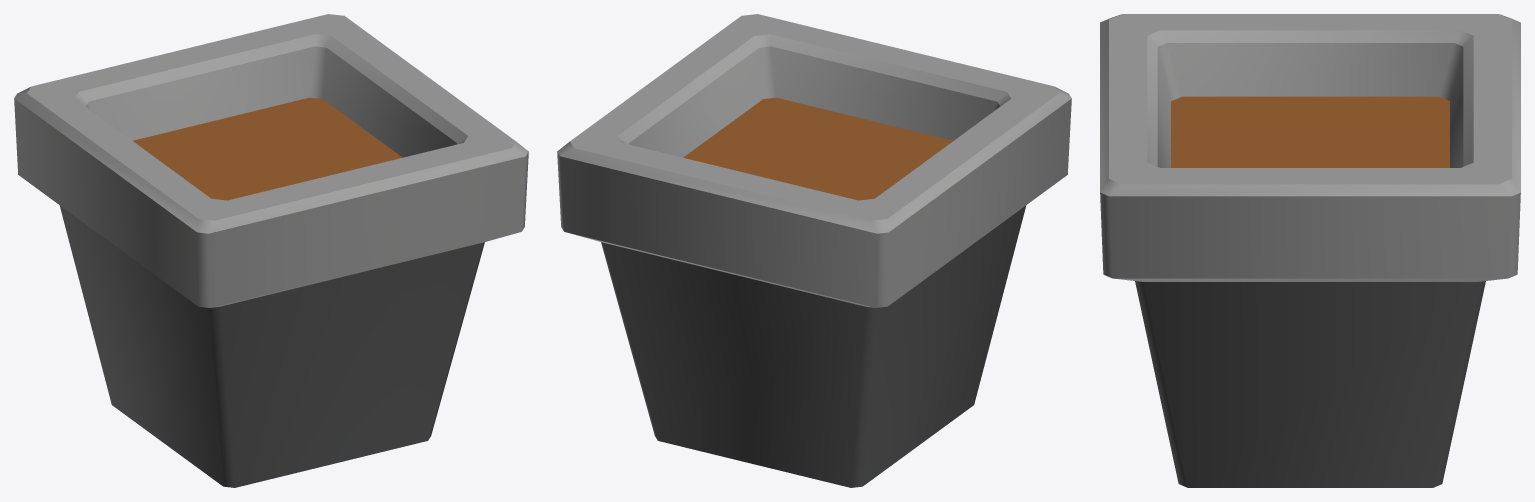
File: PlantPot_1_B.fbx
The picture shows the model from 3 angles, left to right: view 1: azimuth 30°, elevation 25°; view 2: azimuth 150°, elevation 25°; view 3: azimuth 270°, elevation 25°; orthographic projection. The views are drawn at different scales.
Visible parts, largest first — view 1: PlantPot_1_B; view 2: PlantPot_1_B; view 3: PlantPot_1_B.
Boxes of the visible parts, box(x1,y1,x2,y2) form: PlantPot_1_B: box(14, 14, 528, 487); PlantPot_1_B: box(557, 14, 1071, 487); PlantPot_1_B: box(1100, 14, 1520, 487).
Bounding box in the file's own units: 27.48 × 24 × 27.48.
